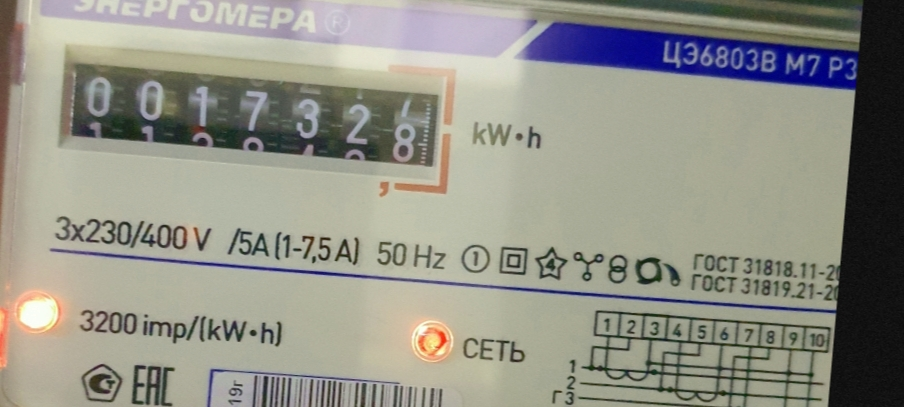0: (81, 74, 117, 120), (135, 76, 168, 124)
1: (189, 82, 214, 130)
2: (341, 101, 374, 148)
3: (292, 96, 323, 141)
7: (239, 87, 270, 136)
8: (389, 121, 418, 165)
screen: (46, 37, 465, 200)
